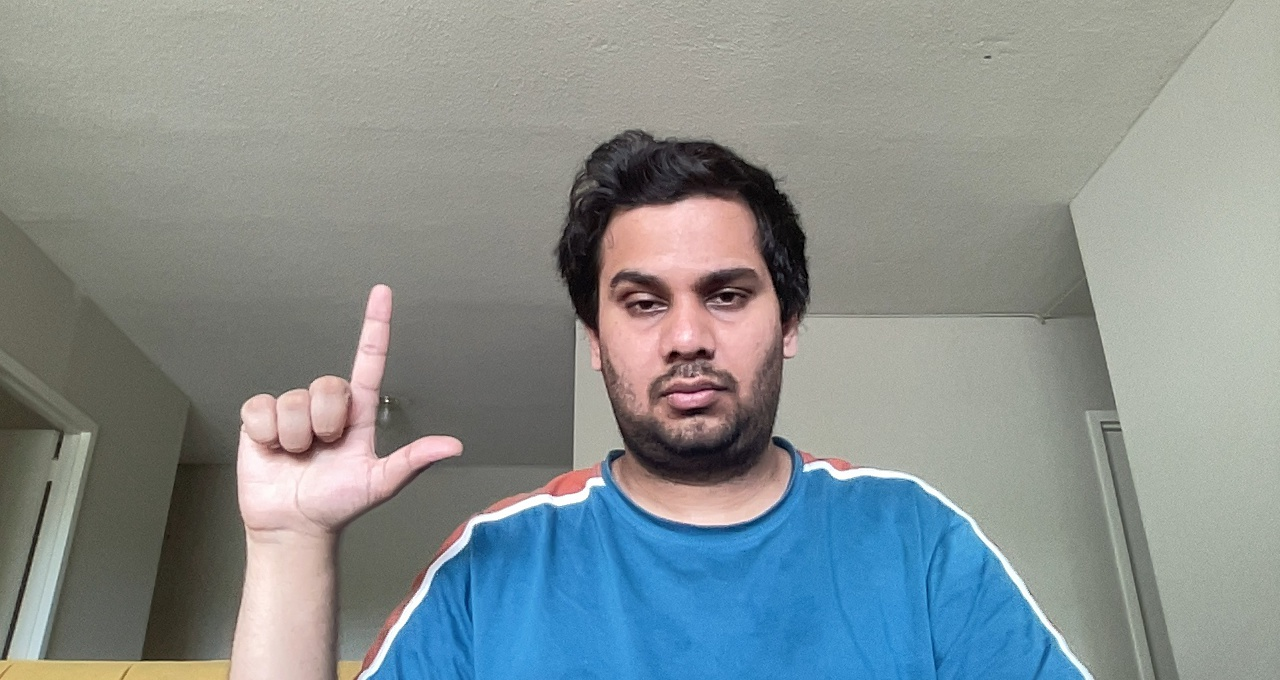L: (213, 271, 464, 540)
